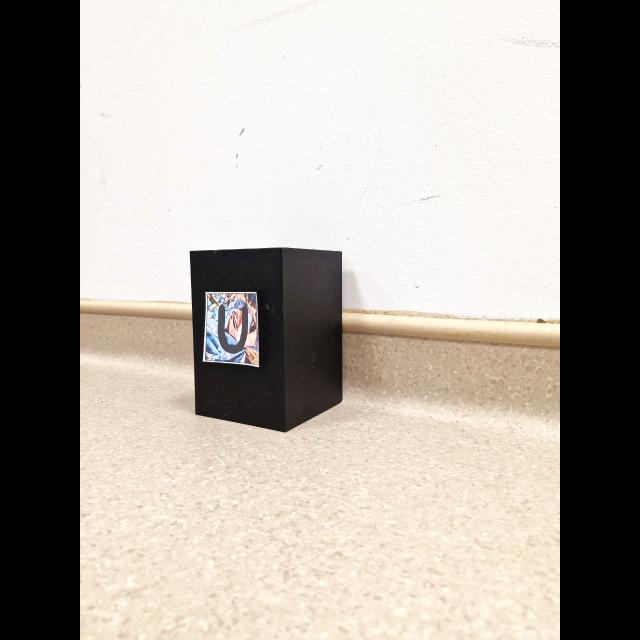U: (218, 305, 249, 353)
